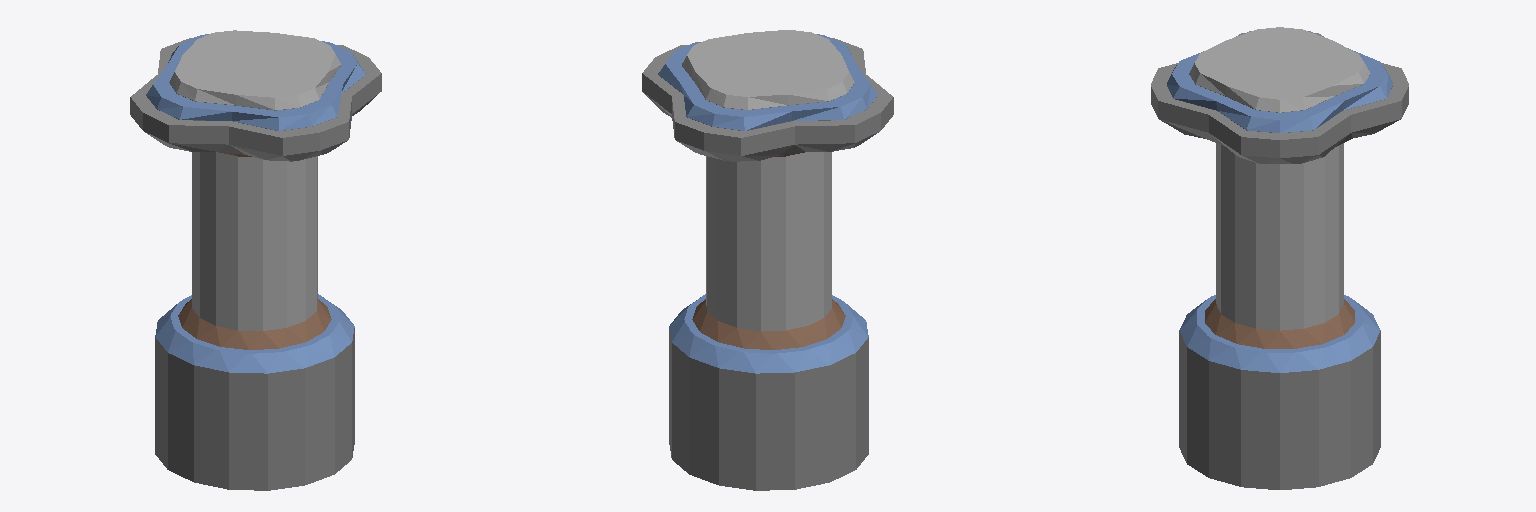
Rendered from Stamp.obj.
The picture shows the model from 3 angles: view 1: azimuth 30°, elevation 25°; view 2: azimuth 150°, elevation 25°; view 3: azimuth 270°, elevation 25°; orthographic projection.
Parts seen in each view (by area): view 1: Stamp; view 2: Stamp; view 3: Stamp.
Boxes of the visible parts, box(x1,y1,x2,y2) form: Stamp: box(130, 30, 381, 490); Stamp: box(642, 30, 893, 490); Stamp: box(1151, 27, 1408, 489).
Size of the model in its own units: 0.9081 by 1.48 by 0.9.